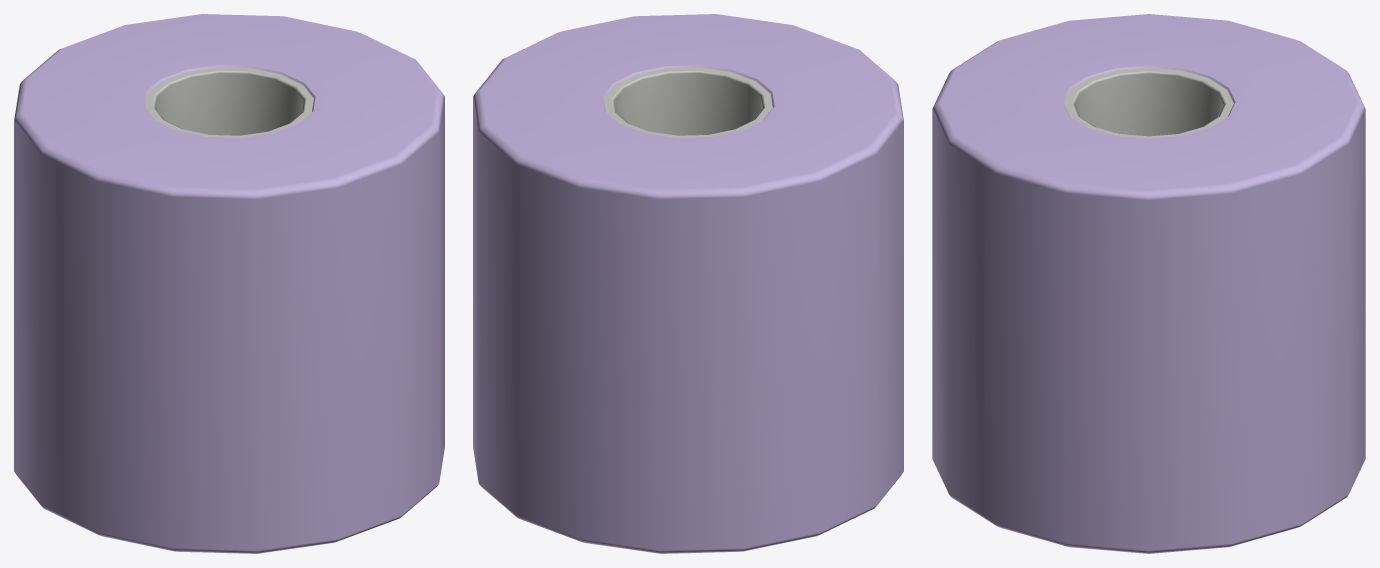
The model's file is Friday_ToileltPaper.fbx.
The picture shows the model from 3 angles, left to right: view 1: azimuth 30°, elevation 25°; view 2: azimuth 150°, elevation 25°; view 3: azimuth 270°, elevation 25°; orthographic projection.
Parts seen in each view (by area): view 1: Toilet_Paper1; view 2: Toilet_Paper1; view 3: Toilet_Paper1.
Boxes of the visible parts, x1=… form: Toilet_Paper1: x1=14, y1=14, x2=444, y2=553; Toilet_Paper1: x1=473, y1=14, x2=903, y2=553; Toilet_Paper1: x1=932, y1=14, x2=1365, y2=553.
Bounding box in the file's own units: 42.68 × 39.56 × 42.68.
